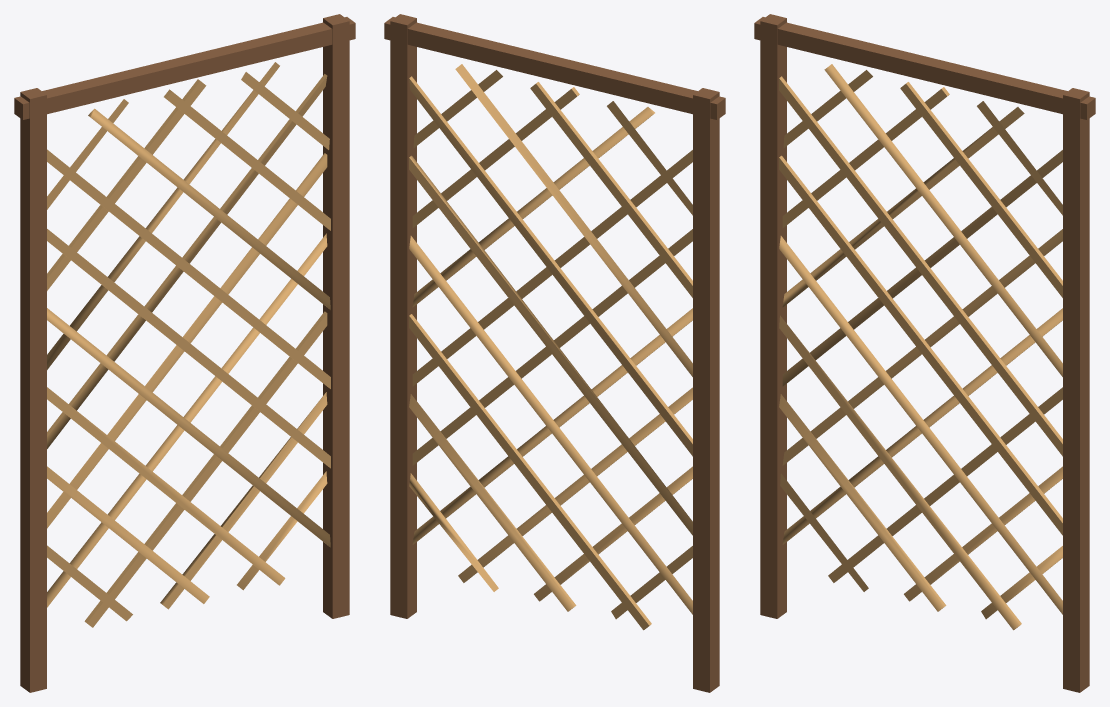
Rendered from trellis.lod1.glb.
3 views of the same model, side by side, from view 1: azimuth 30°, elevation 25°; view 2: azimuth 150°, elevation 25°; view 3: azimuth 330°, elevation 25° (orthographic).
Visible parts, largest first — view 1: trellis_lod1; view 2: trellis_lod1; view 3: trellis_lod1.
Part boxes in pixels (x1,y1,x2,y2): trellis_lod1: (14,14,355,692); trellis_lod1: (384,14,725,692); trellis_lod1: (754,14,1095,692).
Size of the model in its own units: 0.88 by 1.5 by 0.045.
